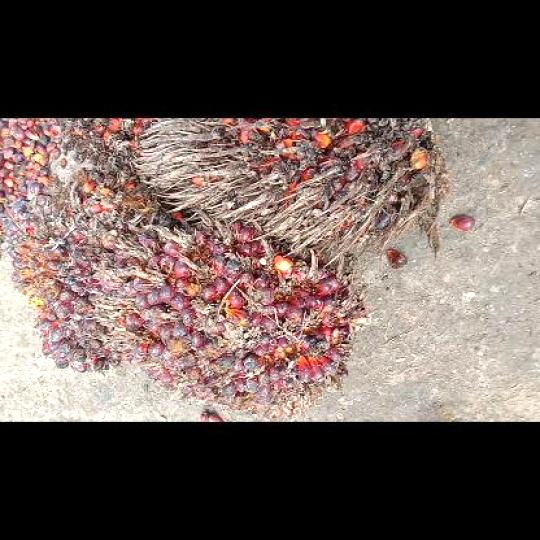masak: (93, 217, 369, 419), (7, 172, 193, 371)
terlalu masak: (135, 118, 447, 264), (59, 118, 156, 168)
